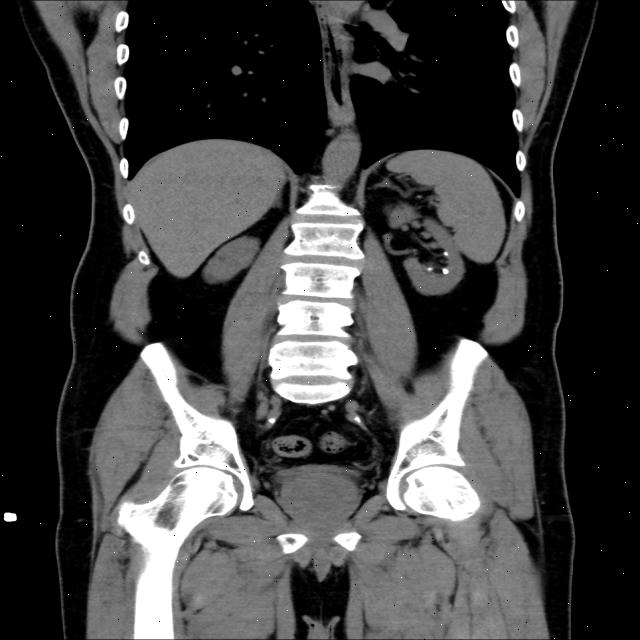kidneystone: (442, 268, 449, 274), (442, 251, 449, 257)
